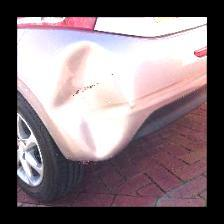bumper_dent: (43, 43, 133, 165)
